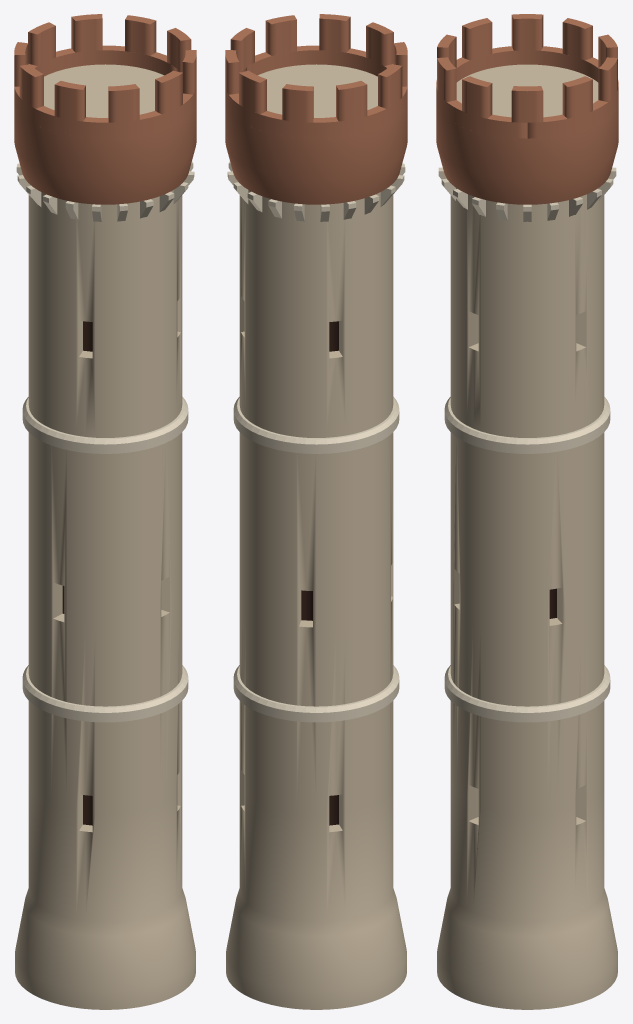
File: tour.glb
The picture shows the model from 3 angles, left to right: view 1: azimuth 30°, elevation 25°; view 2: azimuth 150°, elevation 25°; view 3: azimuth 270°, elevation 25°; orthographic projection.
Visible parts, largest first — view 1: TourCorps, TourCreneaux, TourMachicoulis, TourSol, TourBandeau, TourBandeau.001, TourCorbeaux; view 2: TourCorps, TourCreneaux, TourMachicoulis, TourSol, TourBandeau, TourBandeau.001, TourCorbeaux; view 3: TourCorps, TourCreneaux, TourMachicoulis, TourSol, TourBandeau, TourBandeau.001, TourCorbeaux.
Part boxes in pixels (box(x1,y1,x2,y2)): TourCorps: box(15, 190, 195, 1009); TourCreneaux: box(14, 14, 196, 138); TourMachicoulis: box(14, 102, 196, 204); TourSol: box(44, 64, 163, 117); TourBandeau: box(22, 665, 188, 722); TourBandeau.001: box(22, 397, 188, 453); TourCorbeaux: box(16, 161, 194, 221); TourCorps: box(226, 190, 406, 1009); TourCreneaux: box(225, 14, 407, 138); TourMachicoulis: box(225, 102, 407, 204); TourSol: box(258, 64, 377, 117); TourBandeau: box(233, 665, 399, 722); TourBandeau.001: box(233, 397, 399, 453); TourCorbeaux: box(227, 161, 405, 221); TourCorps: box(437, 188, 617, 1009); TourCreneaux: box(436, 14, 618, 138); TourMachicoulis: box(436, 102, 618, 204); TourSol: box(456, 64, 598, 117); TourBandeau: box(444, 665, 610, 722); TourBandeau.001: box(444, 397, 610, 453); TourCorbeaux: box(438, 167, 616, 221).
Bounding box in the file's own units: 5.24 × 29.1 × 5.24.
